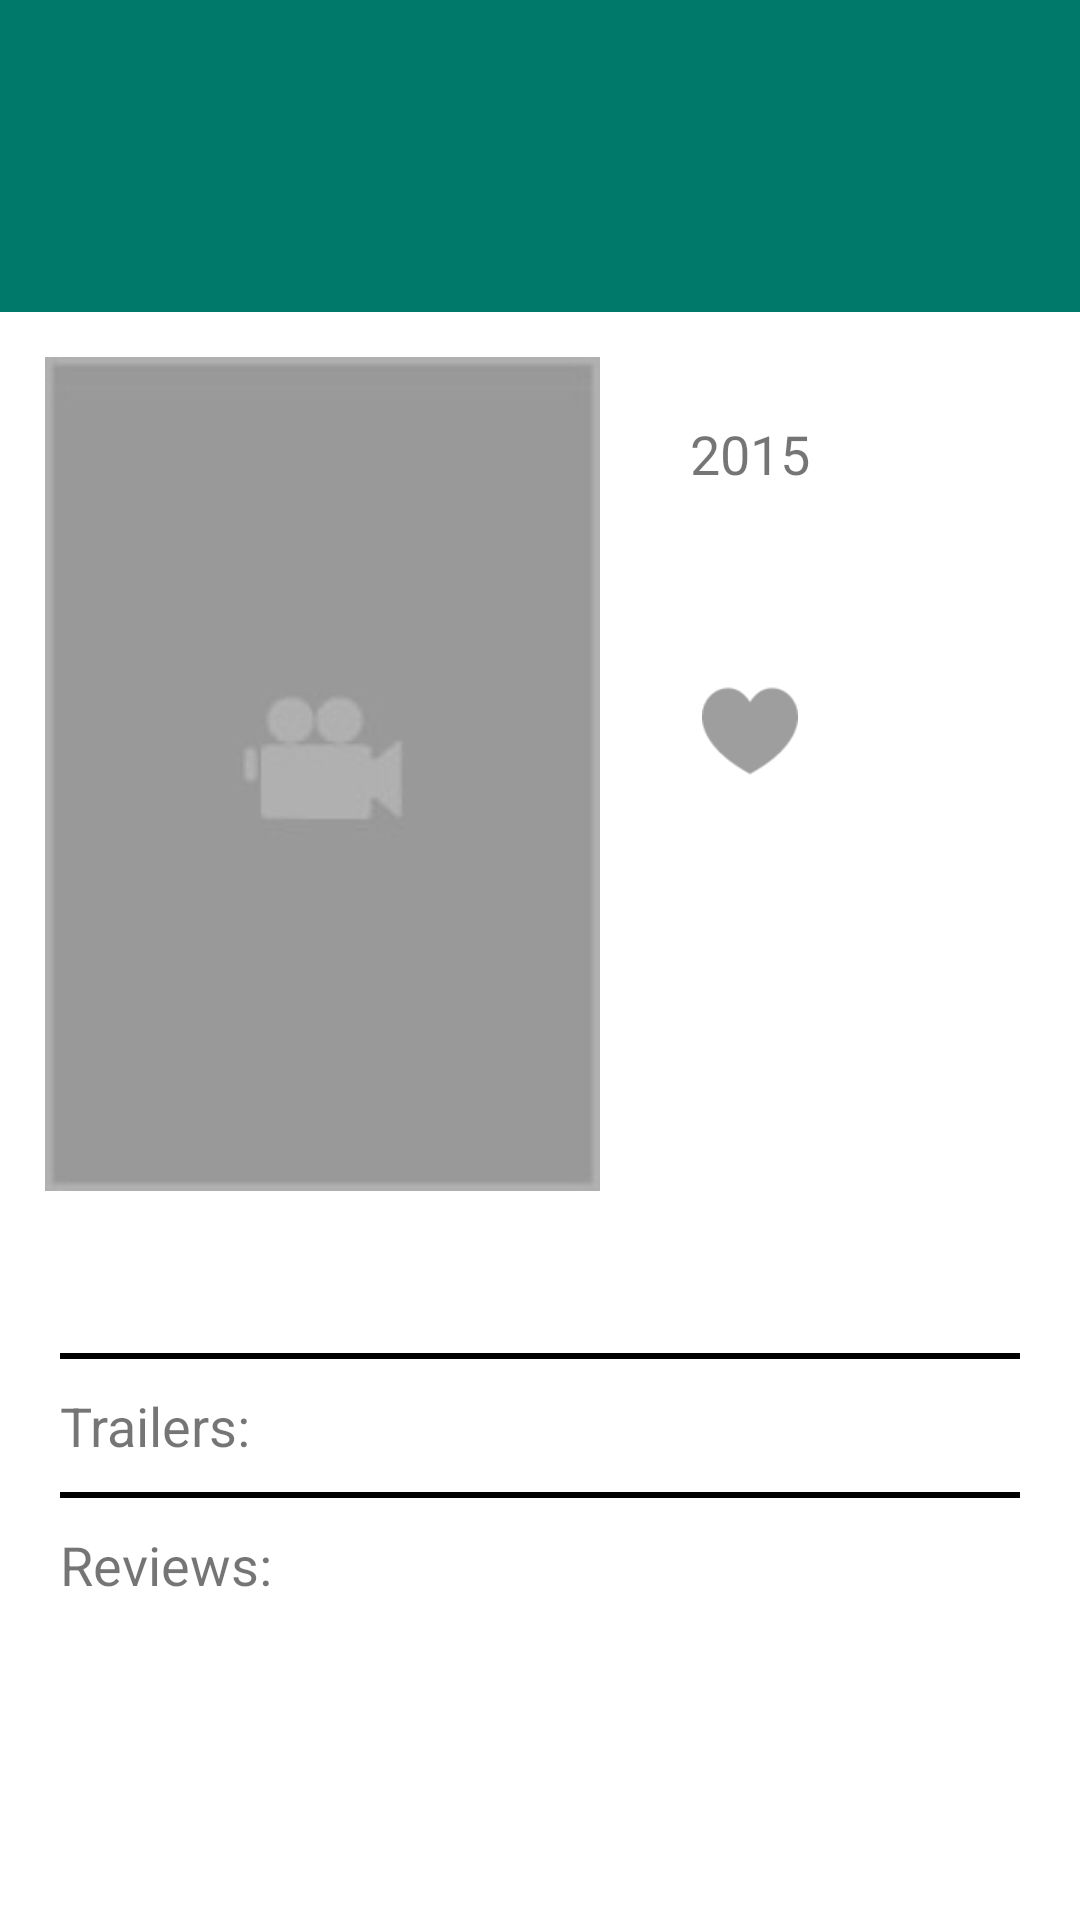

Icons on this 1080w x 1920h Android screen, each with the point to tap as (x=x, y=y):
not favourite: (x=750, y=730)
